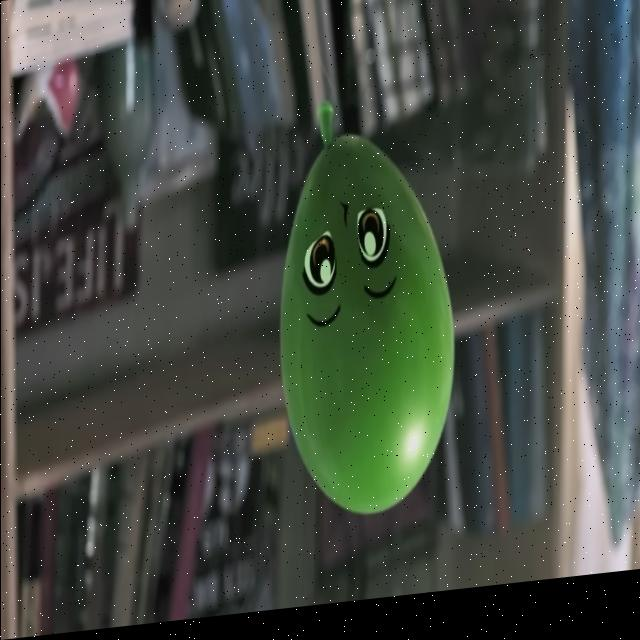balloon: (280, 129, 448, 530)
